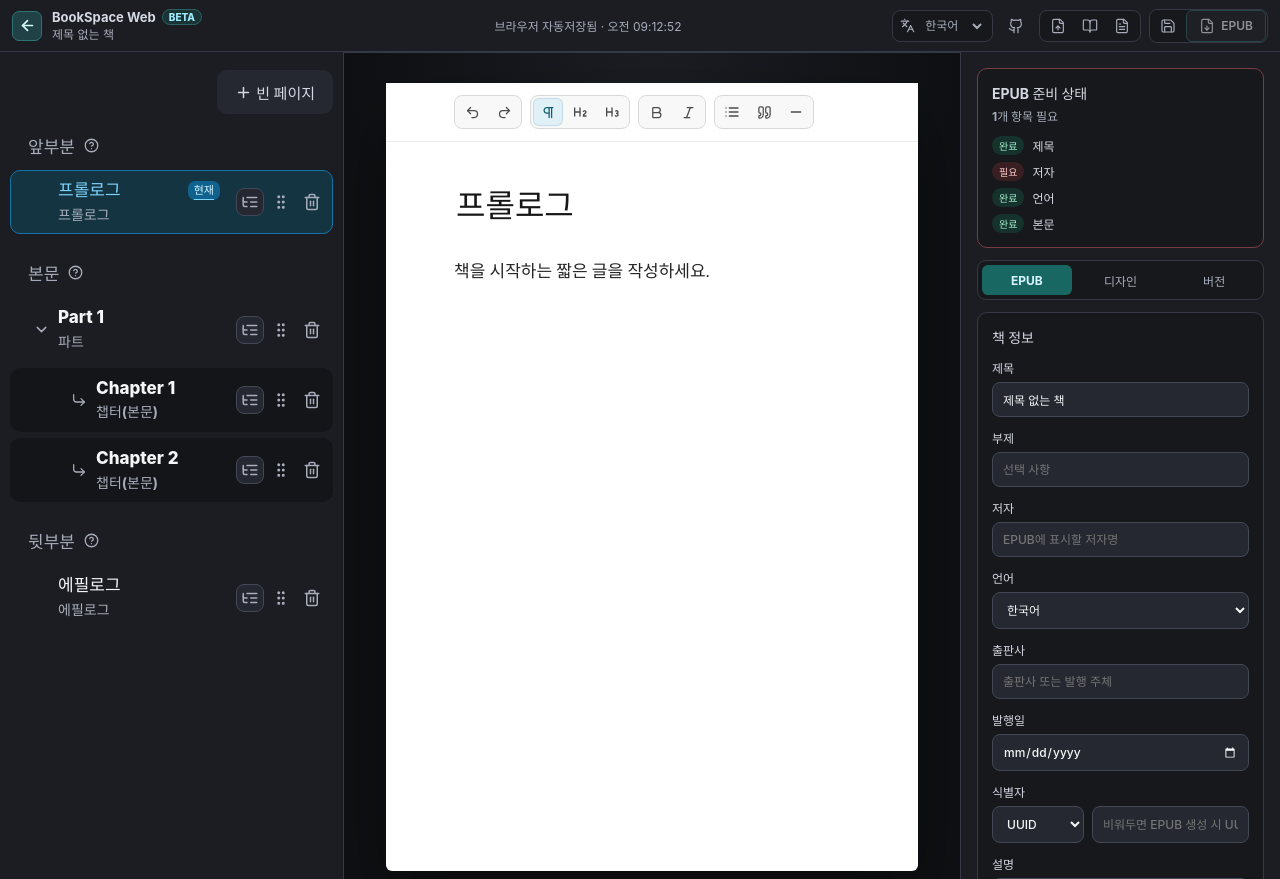
it: BookSpace Web editor › shows a floating preview while dragging a page
The image size is (1280, 879).
Press the mouse on the button titled "드래그" at (281, 400), box [267,386,295,414]
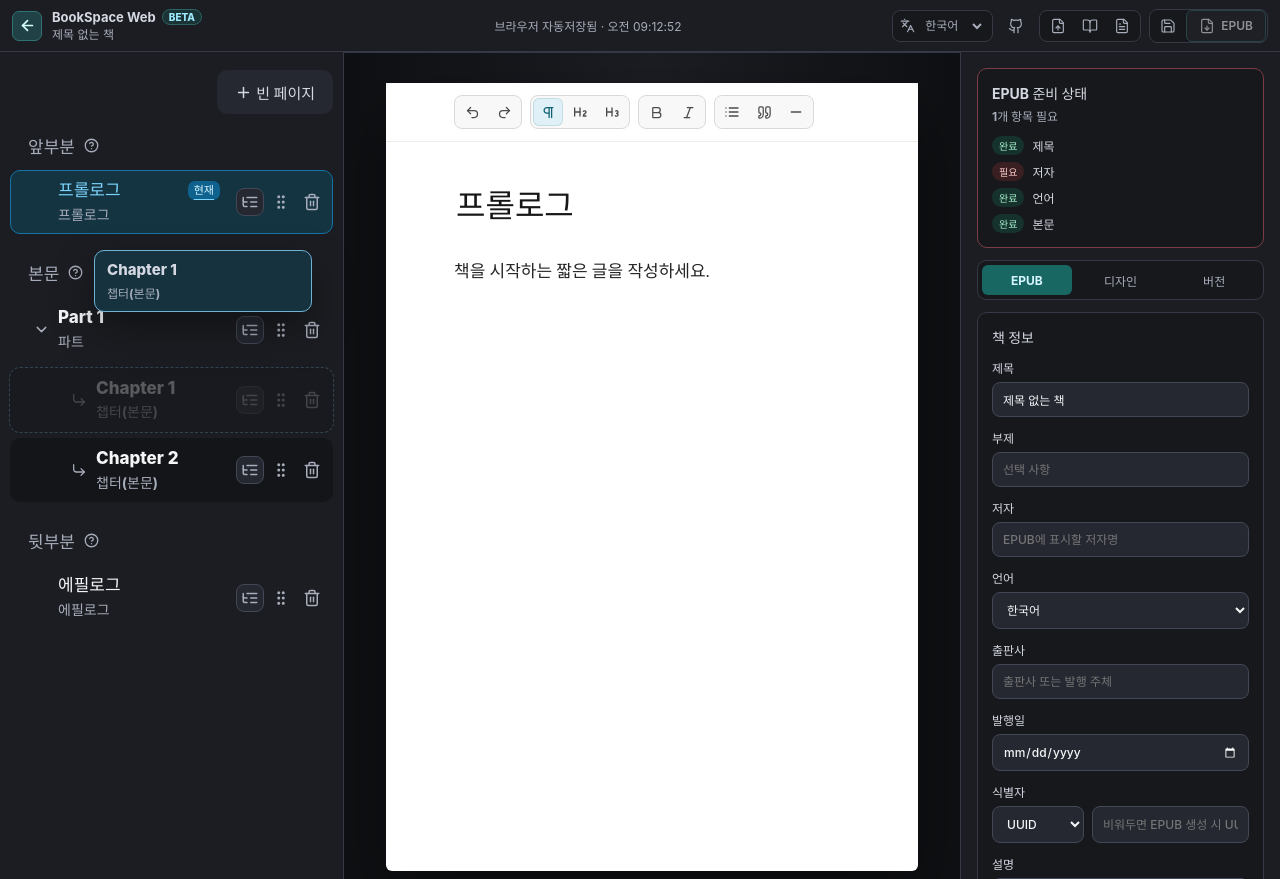
Check: the element with class "drag-preview" is shown, box [94,250,312,312]
Check: the element with class "drag-preview" shows "Chapter 1", box [107,260,177,279]
